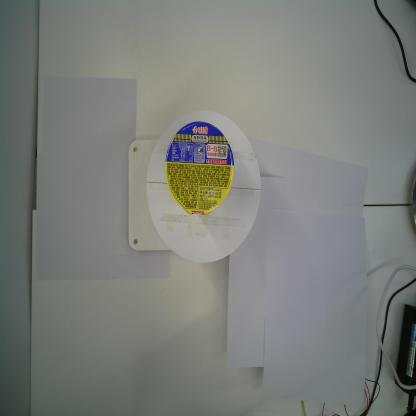Instant Noodles: (165, 120, 234, 217)
